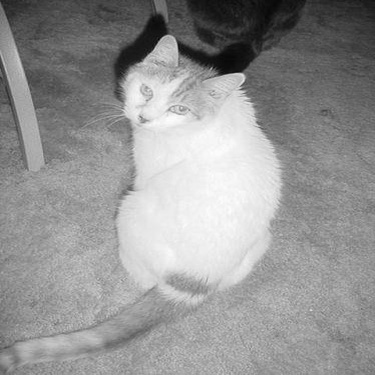cat: (2, 31, 284, 371)
